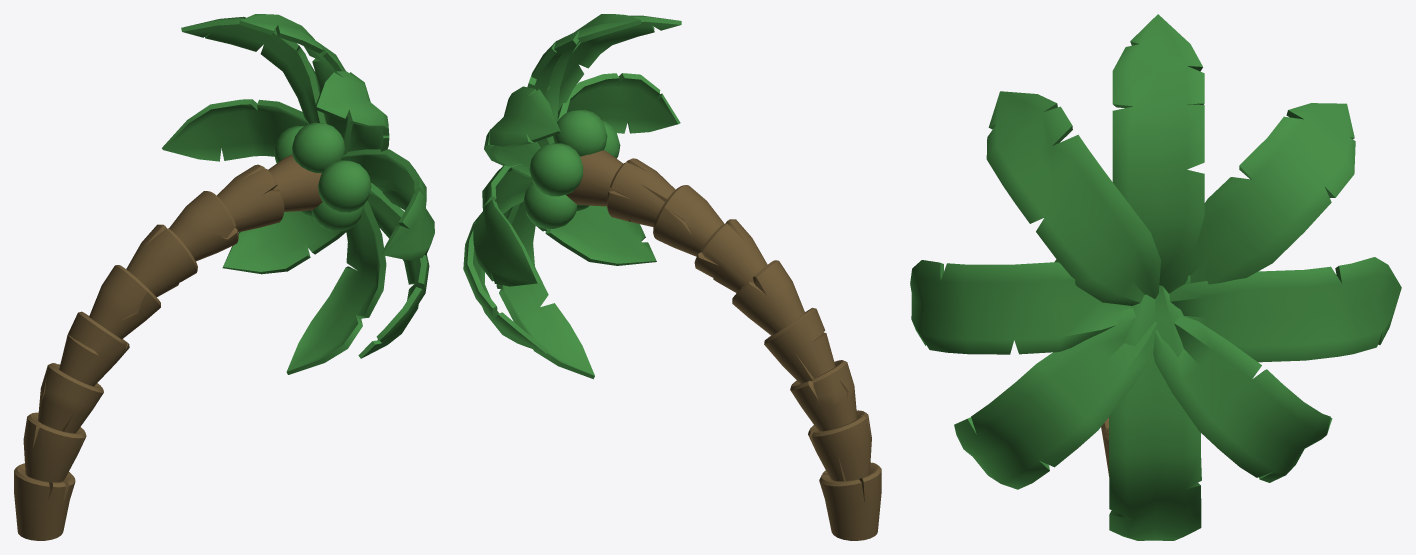
File: PalmFarBend.fbx
3 renders of one model, left to right at view 1: azimuth 30°, elevation 25°; view 2: azimuth 150°, elevation 25°; view 3: azimuth 270°, elevation 25°, orthographic. The views are drawn at different scales.
Visible parts, largest first — view 1: M_PalmFarBend; view 2: M_PalmFarBend; view 3: M_PalmFarBend.
Boxes of the visible parts, <box> form: M_PalmFarBend: <box>14,14,434,540</box>; M_PalmFarBend: <box>463,14,881,540</box>; M_PalmFarBend: <box>910,14,1401,540</box>.
Size of the model in its own units: 1213 by 1431 by 1030.
